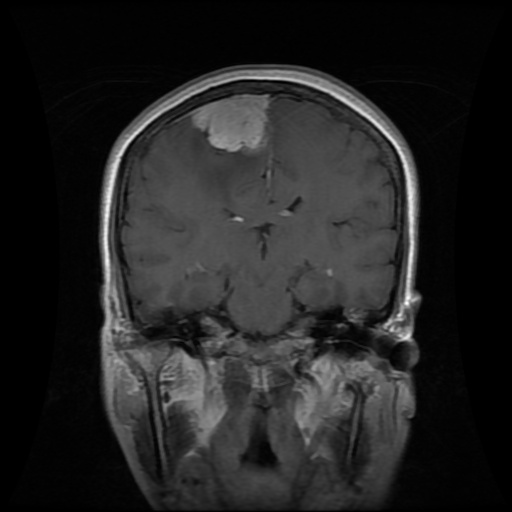meningioma: (189, 92, 273, 152)
